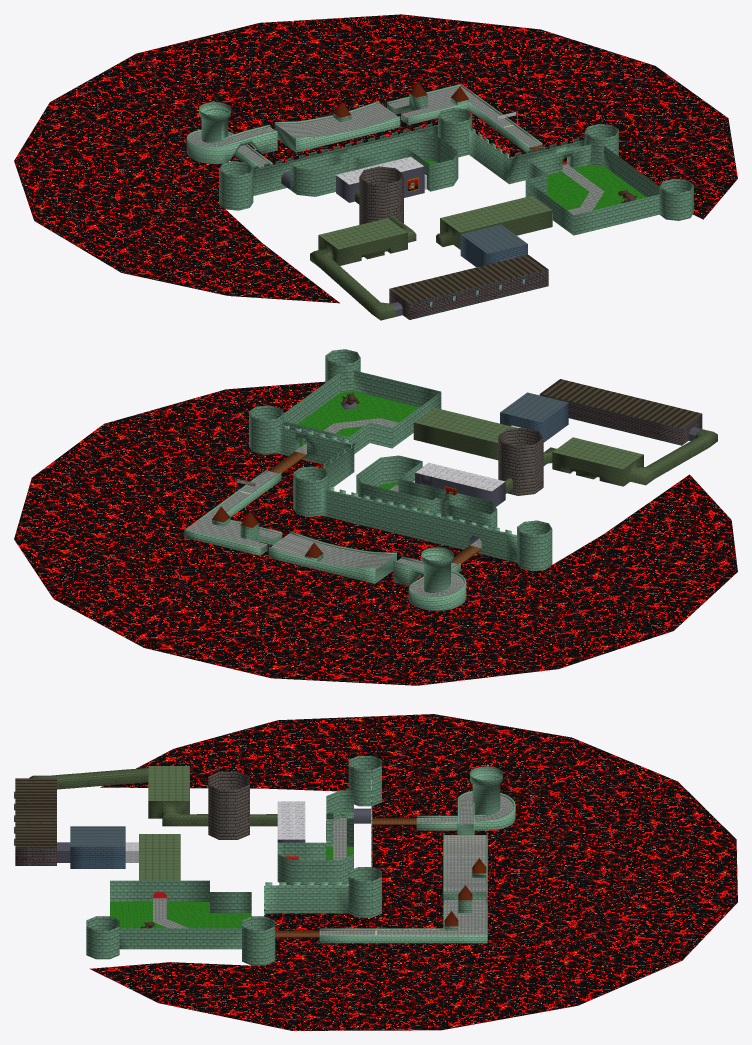
File: Bowser's Castle.obj
The picture shows the model from 3 angles, top to bottom: view 1: azimuth 30°, elevation 25°; view 2: azimuth 150°, elevation 25°; view 3: azimuth 270°, elevation 25°; orthographic projection. The views are drawn at different scales.
Visible parts, largest first — view 1: Shape_IndexedFaceSet.122_Shape_IndexedFaceSet.385, Shape_IndexedFaceSet.019, Shape_IndexedFaceSet.266_Shape_IndexedFaceSet.269, Shape_IndexedFaceSet.168_Shape_IndexedFaceSet.341, Shape_IndexedFaceSet.078_Shape_IndexedFaceSet.409, Shape_IndexedFaceSet.083_Shape_IndexedFaceSet.404, Shape_IndexedFaceSet.082_Shape_IndexedFaceSet.405, Shape_IndexedFaceSet.124_Shape_IndexedFaceSet.384, Shape_IndexedFaceSet.103_Shape_IndexedFaceSet.386, Shape_IndexedFaceSet.170_Shape_IndexedFaceSet.339, Shape_IndexedFaceSet.091_Shape_IndexedFaceSet.396, Shape_IndexedFaceSet.090_Shape_IndexedFaceSet.397 (+1 smaller); view 2: Shape_IndexedFaceSet.122_Shape_IndexedFaceSet.385, Shape_IndexedFaceSet.019, Shape_IndexedFaceSet.168_Shape_IndexedFaceSet.341, Shape_IndexedFaceSet.266_Shape_IndexedFaceSet.269, Shape_IndexedFaceSet.078_Shape_IndexedFaceSet.409, Shape_IndexedFaceSet.083_Shape_IndexedFaceSet.404, Shape_IndexedFaceSet.103_Shape_IndexedFaceSet.386, Shape_IndexedFaceSet.124_Shape_IndexedFaceSet.384, Shape_IndexedFaceSet.082_Shape_IndexedFaceSet.405, Shape_IndexedFaceSet.170_Shape_IndexedFaceSet.339, Shape_IndexedFaceSet.091_Shape_IndexedFaceSet.396, Shape_IndexedFaceSet.095_Shape_IndexedFaceSet.392 (+2 smaller); view 3: Shape_IndexedFaceSet.122_Shape_IndexedFaceSet.385, Shape_IndexedFaceSet.019, Shape_IndexedFaceSet.266_Shape_IndexedFaceSet.269, Shape_IndexedFaceSet.078_Shape_IndexedFaceSet.409, Shape_IndexedFaceSet.168_Shape_IndexedFaceSet.341, Shape_IndexedFaceSet.083_Shape_IndexedFaceSet.404, Shape_IndexedFaceSet.124_Shape_IndexedFaceSet.384, Shape_IndexedFaceSet.103_Shape_IndexedFaceSet.386, Shape_IndexedFaceSet.095_Shape_IndexedFaceSet.392, Shape_IndexedFaceSet.090_Shape_IndexedFaceSet.397, Shape_IndexedFaceSet.091_Shape_IndexedFaceSet.396, Shape_IndexedFaceSet.082_Shape_IndexedFaceSet.405 (+2 smaller).
Boxes of the visible parts, x1,y1,x2,y2 form: Shape_IndexedFaceSet.122_Shape_IndexedFaceSet.385: (14, 14, 737, 303); Shape_IndexedFaceSet.019: (186, 84, 693, 235); Shape_IndexedFaceSet.266_Shape_IndexedFaceSet.269: (188, 86, 604, 214); Shape_IndexedFaceSet.168_Shape_IndexedFaceSet.341: (310, 191, 552, 320); Shape_IndexedFaceSet.078_Shape_IndexedFaceSet.409: (319, 195, 552, 249); Shape_IndexedFaceSet.083_Shape_IndexedFaceSet.404: (390, 255, 547, 303); Shape_IndexedFaceSet.082_Shape_IndexedFaceSet.405: (389, 269, 548, 319); Shape_IndexedFaceSet.124_Shape_IndexedFaceSet.384: (424, 160, 646, 210); Shape_IndexedFaceSet.103_Shape_IndexedFaceSet.386: (359, 166, 403, 224); Shape_IndexedFaceSet.170_Shape_IndexedFaceSet.339: (281, 166, 525, 316); Shape_IndexedFaceSet.091_Shape_IndexedFaceSet.396: (461, 224, 527, 253); Shape_IndexedFaceSet.090_Shape_IndexedFaceSet.397: (460, 234, 527, 267); Shape_IndexedFaceSet.122_Shape_IndexedFaceSet.385: (14, 381, 737, 685); Shape_IndexedFaceSet.019: (184, 349, 552, 610); Shape_IndexedFaceSet.168_Shape_IndexedFaceSet.341: (413, 423, 717, 493); Shape_IndexedFaceSet.266_Shape_IndexedFaceSet.269: (188, 418, 481, 596); Shape_IndexedFaceSet.078_Shape_IndexedFaceSet.409: (414, 407, 643, 469); Shape_IndexedFaceSet.083_Shape_IndexedFaceSet.404: (540, 379, 701, 428); Shape_IndexedFaceSet.103_Shape_IndexedFaceSet.386: (498, 427, 543, 495); Shape_IndexedFaceSet.124_Shape_IndexedFaceSet.384: (297, 391, 479, 538); Shape_IndexedFaceSet.082_Shape_IndexedFaceSet.405: (539, 394, 702, 445); Shape_IndexedFaceSet.170_Shape_IndexedFaceSet.339: (341, 401, 700, 544); Shape_IndexedFaceSet.091_Shape_IndexedFaceSet.396: (500, 392, 568, 422); Shape_IndexedFaceSet.095_Shape_IndexedFaceSet.392: (413, 425, 520, 491); Shape_IndexedFaceSet.122_Shape_IndexedFaceSet.385: (89, 714, 737, 1030); Shape_IndexedFaceSet.019: (86, 755, 515, 965); Shape_IndexedFaceSet.266_Shape_IndexedFaceSet.269: (153, 793, 513, 934); Shape_IndexedFaceSet.078_Shape_IndexedFaceSet.409: (139, 766, 189, 880); Shape_IndexedFaceSet.168_Shape_IndexedFaceSet.341: (29, 768, 277, 826); Shape_IndexedFaceSet.083_Shape_IndexedFaceSet.404: (15, 778, 56, 848); Shape_IndexedFaceSet.124_Shape_IndexedFaceSet.384: (110, 846, 353, 928); Shape_IndexedFaceSet.103_Shape_IndexedFaceSet.386: (208, 771, 249, 839); Shape_IndexedFaceSet.095_Shape_IndexedFaceSet.392: (125, 801, 305, 862); Shape_IndexedFaceSet.090_Shape_IndexedFaceSet.397: (70, 846, 125, 868); Shape_IndexedFaceSet.091_Shape_IndexedFaceSet.396: (70, 826, 125, 846); Shape_IndexedFaceSet.082_Shape_IndexedFaceSet.405: (15, 848, 56, 865).
Bounding box in the file's own units: 5.4 × 0.471 × 5.21.
